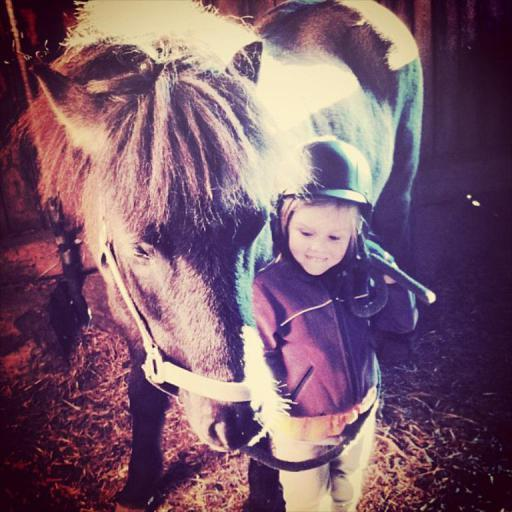horse: (14, 0, 426, 511)
